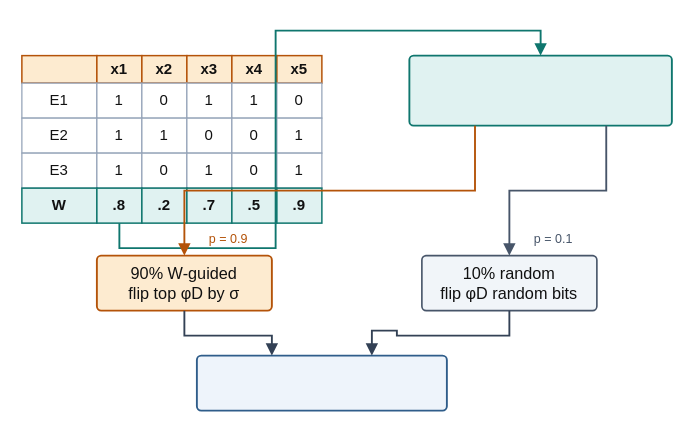
This 695x434 diagram has some shape labels left out. The shapes that lost their labels are listed below. From the top down, each one's centre as x and y in pixels, then its label:
At point 58,68: "elite".
At point 540,90: "σ_j = +W_j if x_j = 0 σ_j = −W_j if x_j = 1".
At point 321,382: "Re-evaluate; keep only if f improves".
